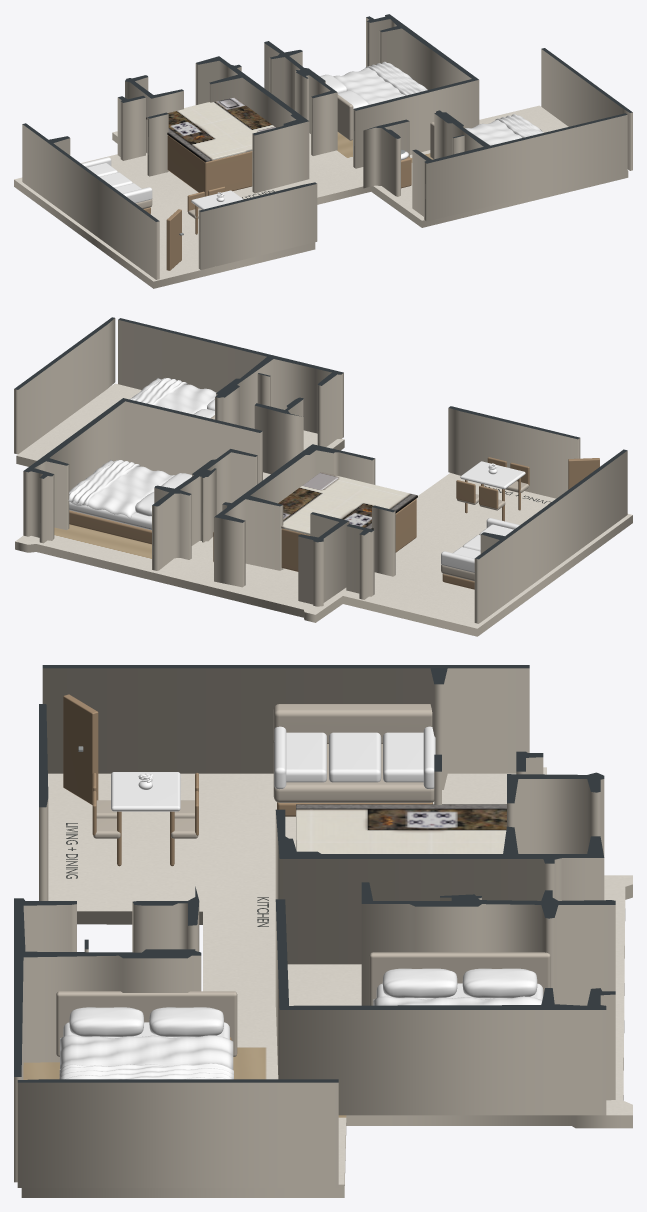
File: coral-group-unit-02.glb
3 views of the same model, one above another, from view 1: azimuth 30°, elevation 25°; view 2: azimuth 150°, elevation 25°; view 3: azimuth 270°, elevation 25° (orthographic). The views are drawn at different scales.
Parts seen in each view (by area): view 1: Partition walls, Apartment floor, Stone worktop, Kitchen cabinets, Draped bed linen, Draped bed linen.002, Open oak door, Draped bed linen.001, Upholstered headboard, Draped bed linen.003, Marble dining top; view 2: Partition walls, Apartment floor, Stone worktop, Draped bed linen, Kitchen cabinets, Draped bed linen.002, Walnut upholstered base, Draped bed linen.001, Marble dining top, Piped mattress, Draped bed linen.003, Open oak door (+1 smaller); view 3: Partition walls, Apartment floor, Stone worktop, Draped bed linen.002, Sofa back, Upholstered headboard.001, Upholstered headboard, Upholstered sofa frame, Open oak door, Seat cushion.001, Draped bed linen.003, Marble dining top (+9 smaller).
Part boxes in pixels (<box>): Partition walls: <box>22,14,632,279</box>; Apartment floor: <box>14,105,628,288</box>; Stone worktop: <box>146,97,275,162</box>; Kitchen cabinets: <box>167,135,252,196</box>; Draped bed linen: <box>333,63,427,104</box>; Draped bed linen.002: <box>465,115,543,145</box>; Open oak door: <box>166,209,181,270</box>; Draped bed linen.001: <box>365,61,424,95</box>; Upholstered headboard: <box>337,94,353,140</box>; Draped bed linen.003: <box>495,114,541,137</box>; Marble dining top: <box>191,190,243,209</box>; Partition walls: <box>14,317,627,623</box>; Apartment floor: <box>15,383,632,636</box>; Stone worktop: <box>278,472,417,534</box>; Draped bed linen: <box>69,460,174,518</box>; Kitchen cabinets: <box>281,498,416,571</box>; Draped bed linen.002: <box>129,378,216,414</box>; Walnut upholstered base: <box>69,510,151,544</box>; Draped bed linen.001: <box>68,460,140,506</box>; Marble dining top: <box>460,461,525,489</box>; Piped mattress: <box>69,502,151,530</box>; Draped bed linen.003: <box>132,378,187,405</box>; Open oak door: <box>568,458,599,489</box>; Partition walls: <box>14,665,615,1187</box>; Apartment floor: <box>21,767,632,1197</box>; Stone worktop: <box>296,804,506,853</box>; Draped bed linen.002: <box>60,1035,233,1075</box>; Sofa back: <box>273,704,432,743</box>; Upholstered headboard.001: <box>56,991,237,1056</box>; Upholstered headboard: <box>369,952,550,1005</box>; Upholstered sofa frame: <box>273,742,434,802</box>; Open oak door: <box>63,694,98,804</box>; Seat cushion.001: <box>329,732,381,782</box>; Draped bed linen.003: <box>59,1063,233,1079</box>; Marble dining top: <box>111,772,180,811</box>.
Size of the model in its own units: 10.96 by 1.44 by 6.81.
Materials: 12 (2 with a texture image).
